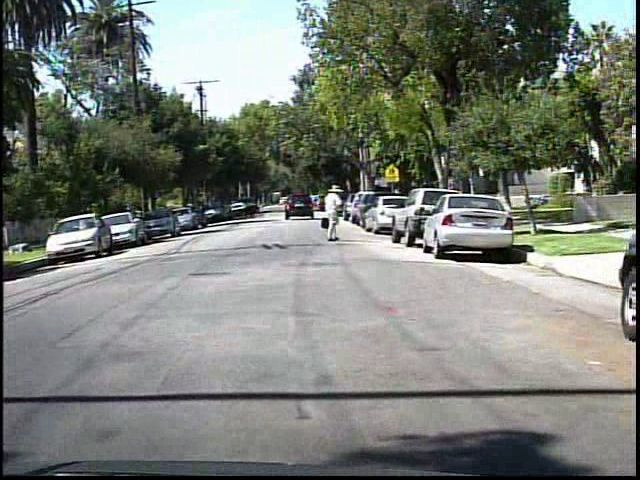person: (317, 184, 349, 244)
